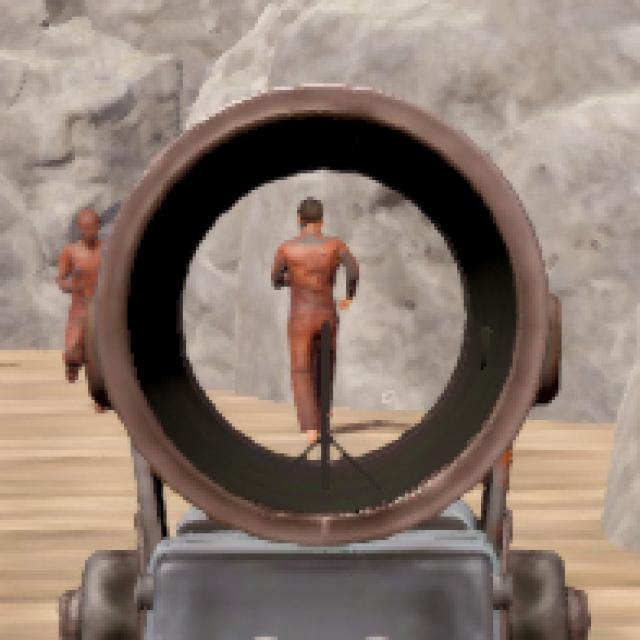Player: (274, 198, 360, 436), (58, 208, 104, 368)
